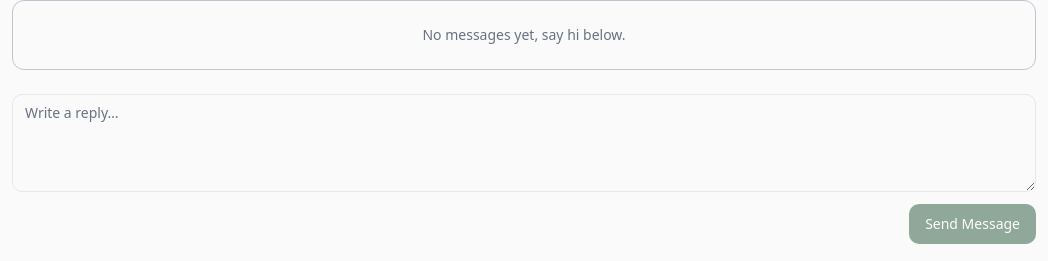
Test case: conversation DM notification trigger › never invokes for admin replies
The image size is (1048, 261).
In the text box with placeholder "Write a reply…": (524,143) [12,94,1036,192], type "A real reply"
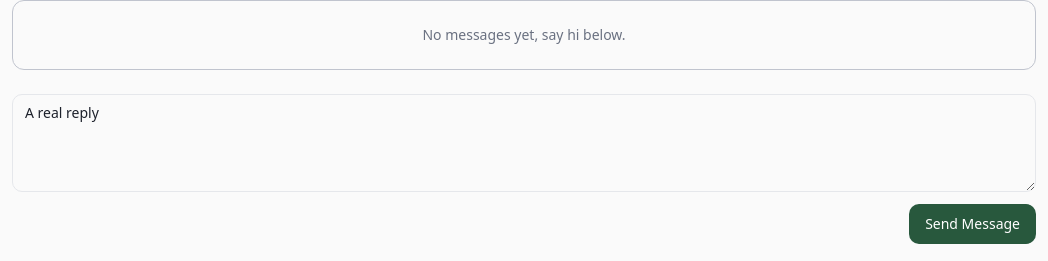
Click the button "Send Message": (973,224) [909,204,1036,244]
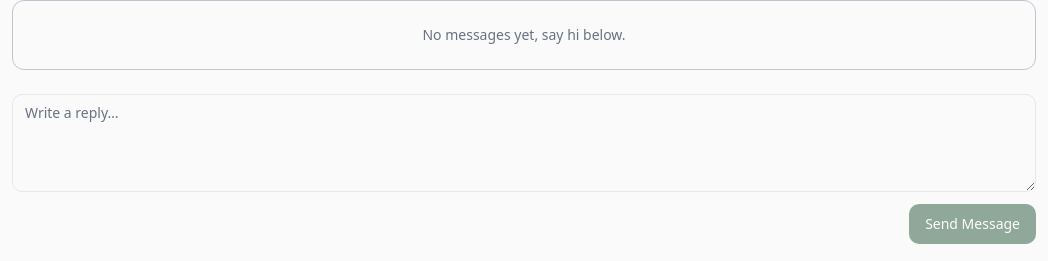
Expected: the text box with placeholder "Write a reply…" is empty, [12,94,1036,192]
